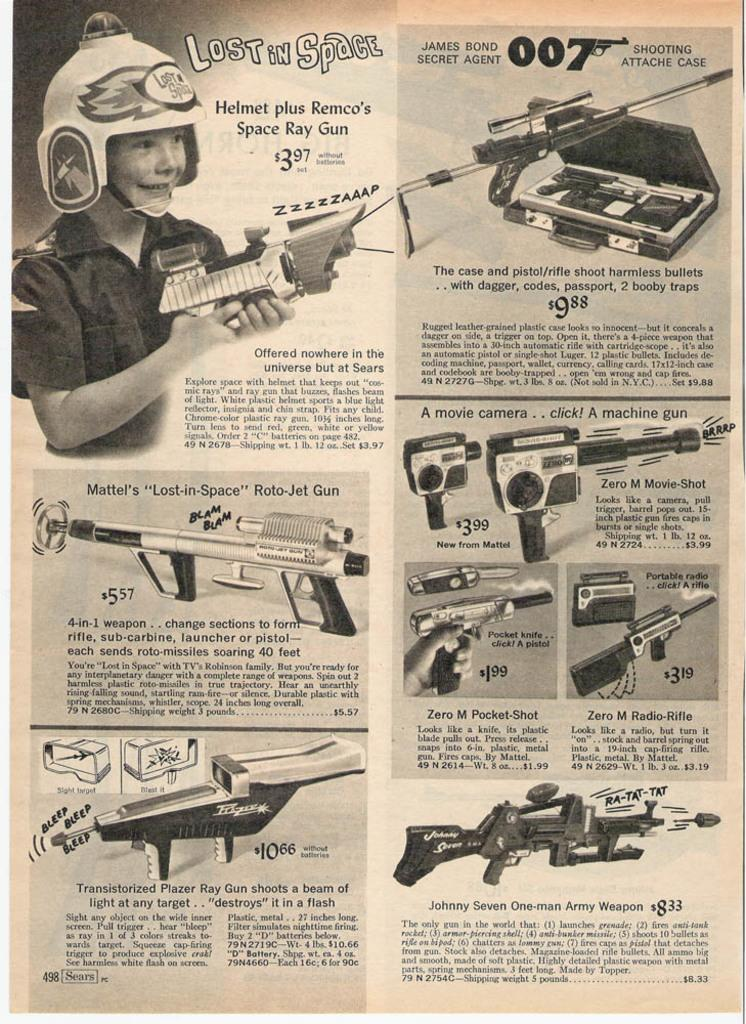Rifle: (398, 59, 737, 261), (33, 505, 375, 643), (47, 735, 367, 881), (391, 778, 725, 888)
